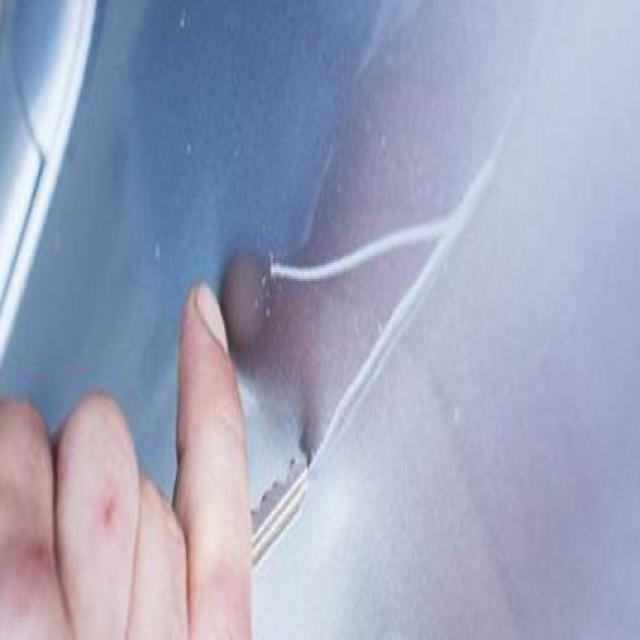scratch: (256, 212, 487, 290)
